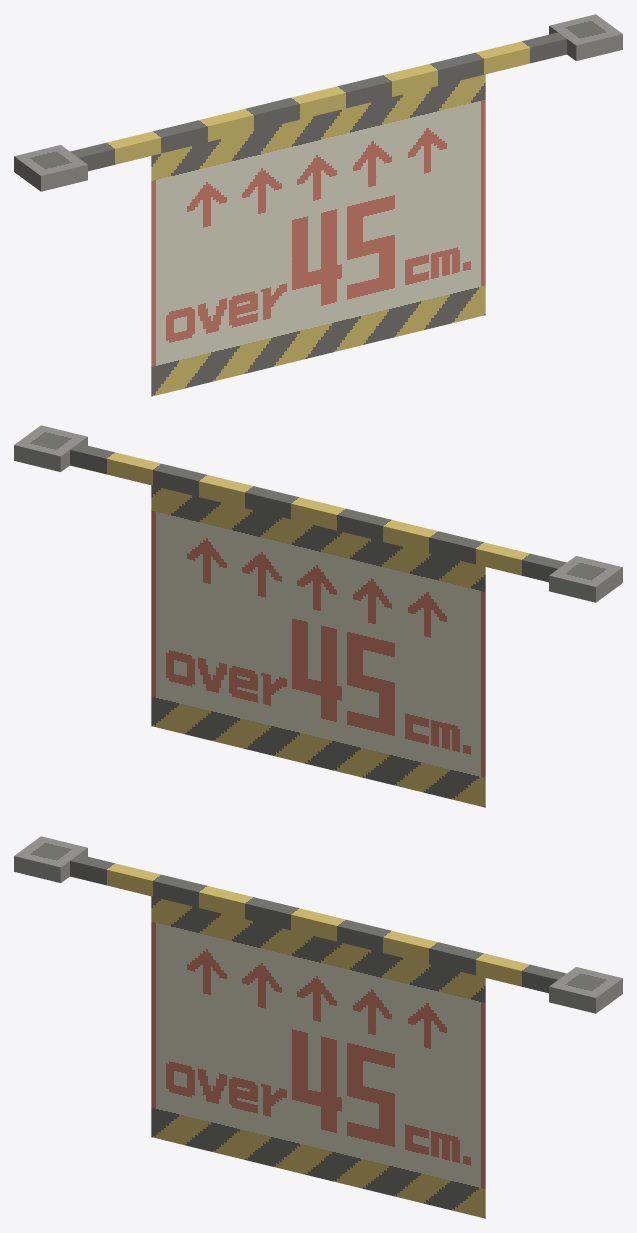
Rendered from 05b6_Over_45cm_Sign.glb.
The picture shows the model from 3 angles, top to bottom: view 1: azimuth 30°, elevation 25°; view 2: azimuth 150°, elevation 25°; view 3: azimuth 330°, elevation 25°; orthographic projection.
Visible parts, largest first — view 1: part_0; view 2: part_0; view 3: part_0.
Boxes of the visible parts, x1,y1,x2,y2 form: part_0: (14,14,622,396); part_0: (14,425,622,807); part_0: (14,836,622,1218).
Bounding box in the file's own units: 0.435 × 0.1862 × 0.035.
1 material, 1 textured.
